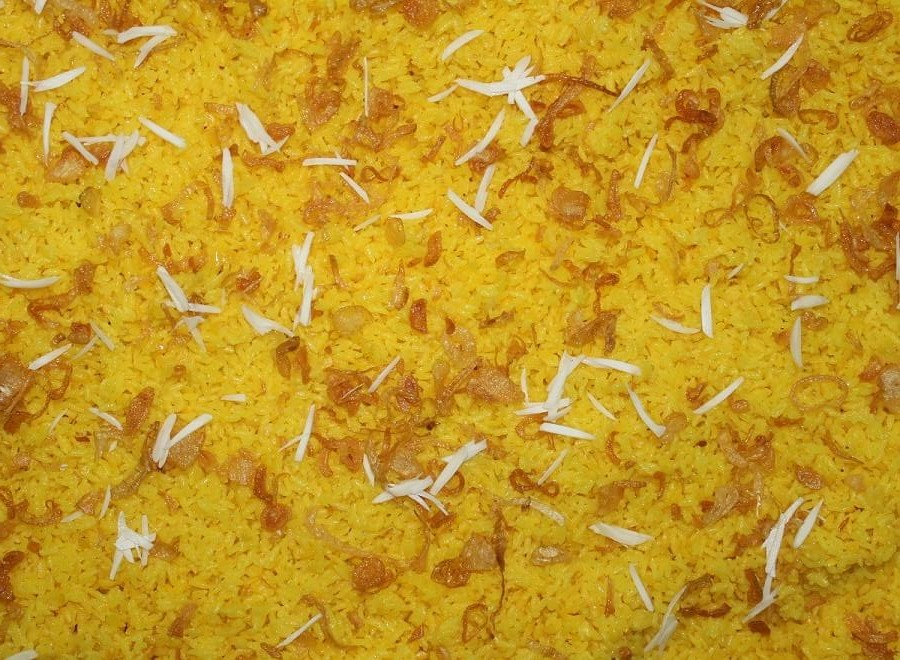khichuri: (7, 13, 900, 648)
